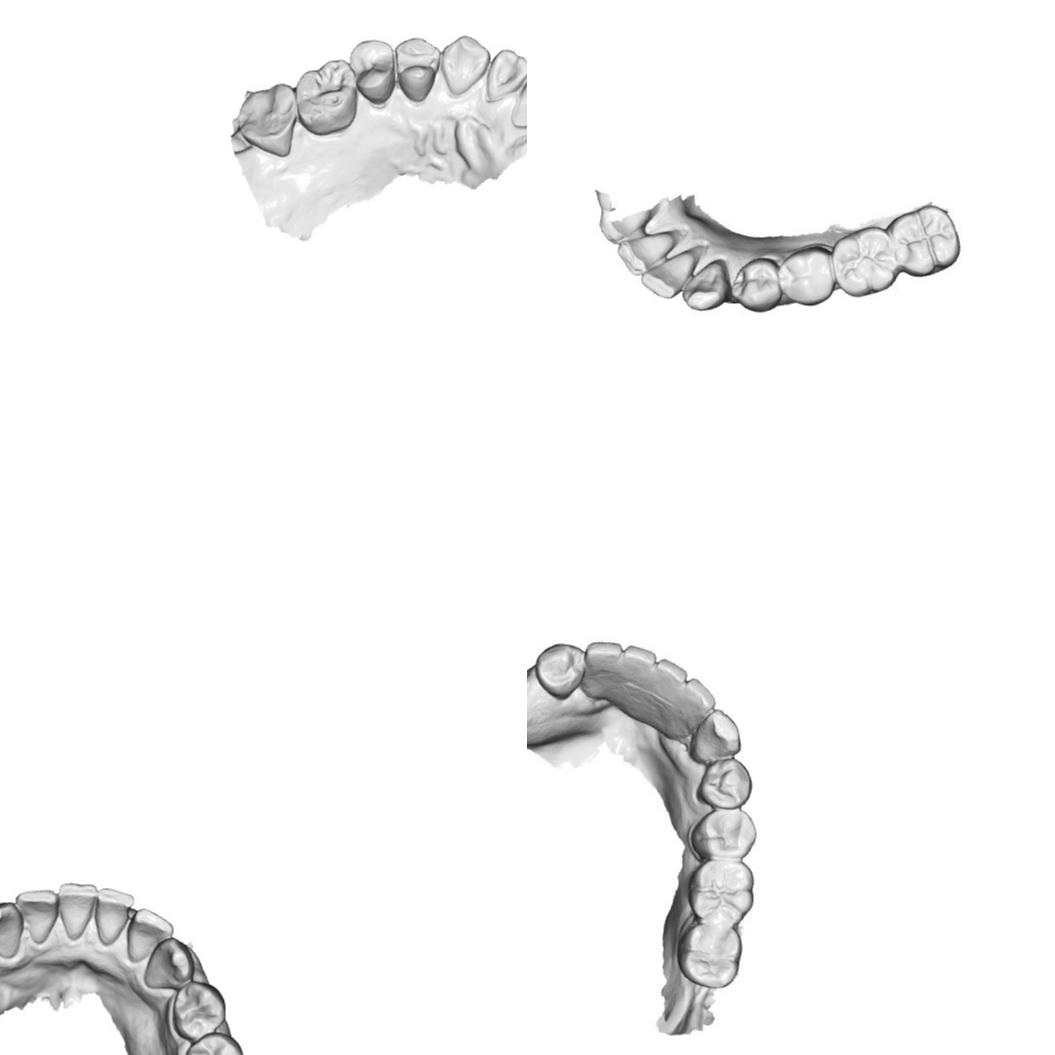canine: (438, 33, 490, 100), (142, 935, 196, 994), (536, 638, 582, 704), (688, 710, 742, 766), (681, 258, 730, 316), (0, 900, 23, 960)
incisor: (13, 887, 64, 947), (125, 907, 176, 965), (640, 249, 698, 295), (57, 881, 100, 942), (94, 886, 136, 948), (484, 47, 527, 106), (582, 643, 621, 693), (621, 641, 659, 691), (621, 234, 675, 266), (675, 676, 713, 719), (653, 660, 688, 701), (510, 66, 527, 130)
molar: (293, 57, 359, 138), (688, 856, 754, 922), (677, 920, 742, 987), (891, 207, 959, 266), (834, 233, 898, 295)
premolar: (168, 980, 228, 1043), (349, 37, 398, 107), (692, 803, 753, 858), (392, 36, 441, 104), (781, 250, 834, 302), (698, 759, 752, 806), (736, 264, 781, 309), (182, 1030, 246, 1055)
